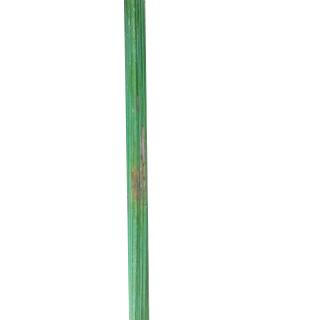Blast: (131, 120, 145, 220), (136, 90, 140, 116)
